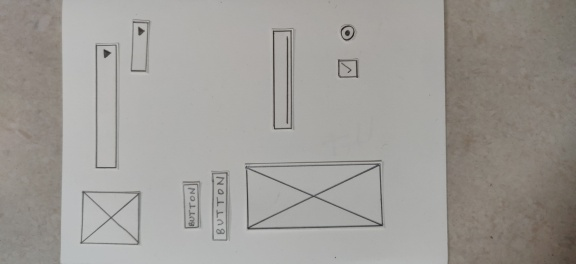button: (208, 169, 233, 244), (178, 177, 203, 231)
checkbox: (334, 56, 362, 83)
dropdown: (91, 40, 121, 171), (127, 17, 152, 76)
img: (241, 158, 387, 232), (77, 187, 144, 249)
radio: (338, 23, 357, 43)
text: (269, 27, 296, 131)
